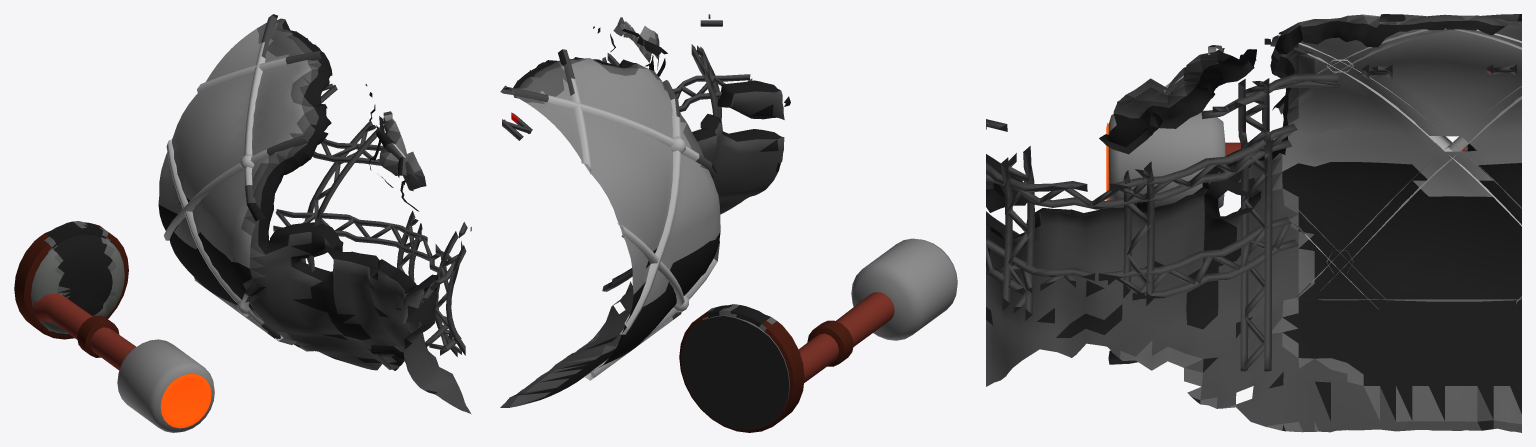
File: zeppelin_123.glb
3 renders of one model, left to right at view 1: azimuth 30°, elevation 25°; view 2: azimuth 150°, elevation 25°; view 3: azimuth 270°, elevation 25°, orthographic. The views are drawn at different scales.
Parts seen in each view (by area): view 1: envelope.001, framework.001, net_ropes.001, gun_body.001, gun_muzzle.001, gun_band2.001, gun_barrel.001, gun_fire_ring.001, gun_barrel_ring.001, net_load.001; view 2: envelope.001, gun_body.001, gun_muzzle.001, net_ropes.001, gun_band2.001, gun_barrel.001, framework.001, gun_barrel_ring.001; view 3: envelope.001, framework.001, gun_muzzle.001, net_ropes.001, net_load.001.
Part boxes in pixels (<box>): envelope.001: <box>158,18,471,414</box>; framework.001: <box>273,83,471,356</box>; net_ropes.001: <box>164,14,413,354</box>; gun_body.001: <box>31,234,124,334</box>; gun_muzzle.001: <box>117,339,214,432</box>; gun_band2.001: <box>14,221,128,339</box>; gun_barrel.001: <box>33,293,136,370</box>; gun_fire_ring.001: <box>160,373,211,428</box>; gun_barrel_ring.001: <box>77,315,119,357</box>; net_load.001: <box>195,279,404,361</box>; envelope.001: <box>500,21,784,407</box>; gun_body.001: <box>681,315,789,430</box>; gun_muzzle.001: <box>851,238,957,340</box>; net_ropes.001: <box>503,17,790,378</box>; gun_band2.001: <box>679,304,804,432</box>; gun_barrel.001: <box>798,292,894,382</box>; framework.001: <box>502,14,752,291</box>; gun_barrel_ring.001: <box>807,320,853,366</box>; envelope.001: <box>986,14,1521,432</box>; framework.001: <box>986,64,1516,372</box>; gun_muzzle.001: <box>1108,110,1225,208</box>; net_ropes.001: <box>1151,14,1521,309</box>; net_load.001: <box>1108,299,1521,364</box>.
Bounding box in the file's own units: 23.28 × 23.87 × 28.
